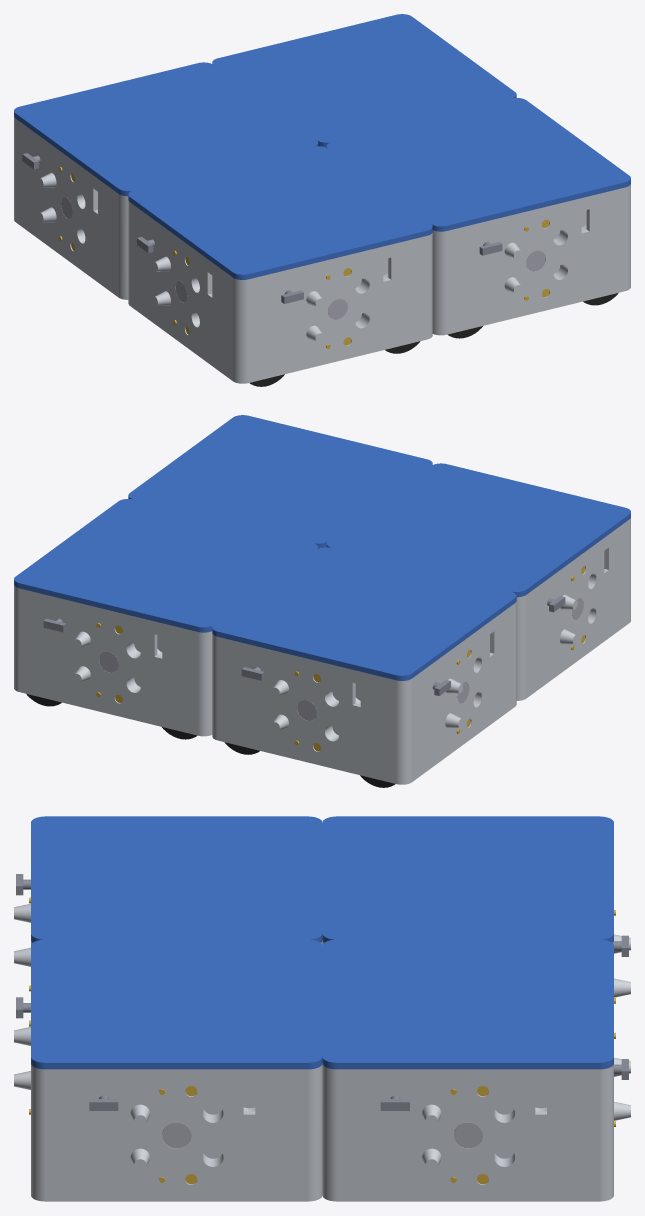
Rendered from cluster_square4.glb.
3 views of the same model, one above another, from view 1: azimuth 30°, elevation 25°; view 2: azimuth 150°, elevation 25°; view 3: azimuth 270°, elevation 25° (orthographic). The views are drawn at different scales.
Visible parts, largest first — view 1: lid_1 (×4), body_1 (×3); view 2: lid_1 (×4), body_1 (×3); view 3: lid_1 (×4), body_1 (×3), magnet_1 (×2).
Part boxes in pixels (x1=…): lid_1 (×4): x1=14, y1=14, x2=630, y2=279; body_1 (×3): x1=14, y1=117, x2=630, y2=383; lid_1 (×4): x1=14, y1=415, x2=630, y2=680; body_1 (×3): x1=14, y1=518, x2=630, y2=784; lid_1 (×4): x1=31, y1=816, x2=613, y2=1069; body_1 (×3): x1=14, y1=903, x2=630, y2=1201; magnet_1 (×2): x1=162, y1=1122, x2=482, y2=1148.
Size of the model in its own units: 0.254 by 0.069 by 0.254.
